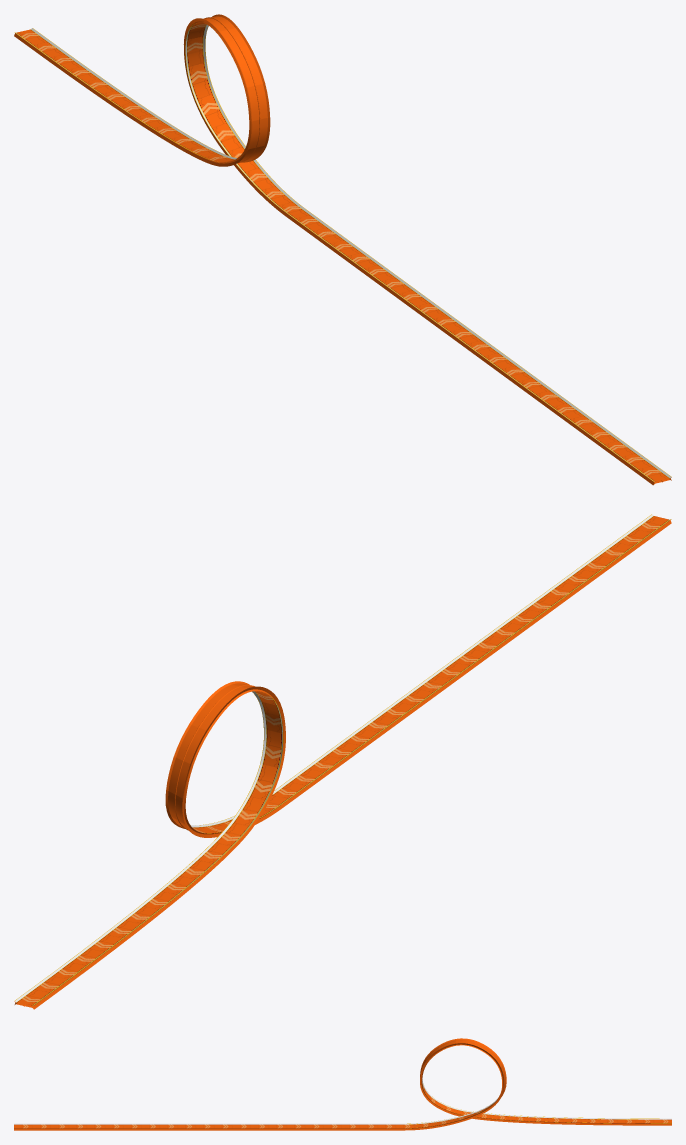
File: LoopTest.glb
The picture shows the model from 3 angles, top to bottom: view 1: azimuth 30°, elevation 25°; view 2: azimuth 150°, elevation 25°; view 3: azimuth 270°, elevation 25°; orthographic projection. The views are drawn at different scales.
Visible parts, largest first — view 1: Track_Piece_01; view 2: Track_Piece_01; view 3: Track_Piece_01.
Boxes of the visible parts, x1,y1,x2,y2 form: Track_Piece_01: [14, 14, 671, 485]; Track_Piece_01: [14, 514, 671, 1009]; Track_Piece_01: [14, 1038, 671, 1130].
Size of the model in its own units: 3.99 by 15.59 by 112.
Materials: 2 (1 with a texture image).
